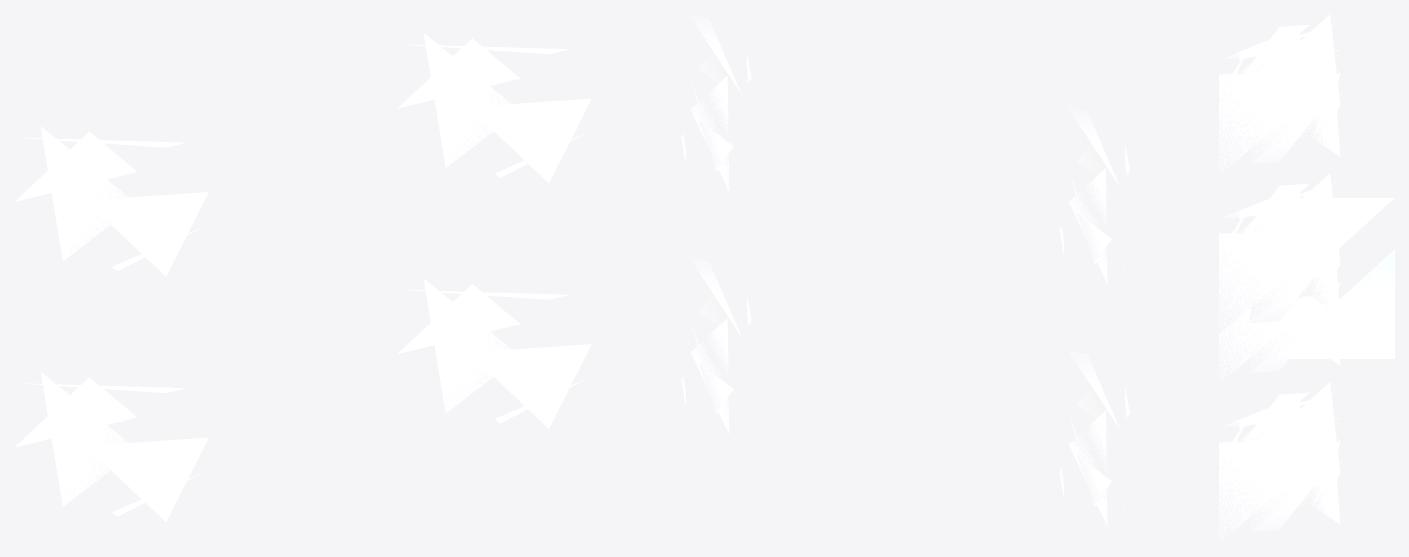
The model's file is SM_Interceptor.glb.
3 renders of one model, left to right at view 1: azimuth 30°, elevation 25°; view 2: azimuth 150°, elevation 25°; view 3: azimuth 270°, elevation 25°, orthographic. The views are drawn at different scales.
Visible parts, largest first — view 1: SM_Wheel_RL, SM_Wheel_FR, SM_Wheel_FL, SM_Wheel_RR; view 2: SM_Wheel_RR, SM_Wheel_RL, SM_Wheel_FL, SM_Wheel_FR; view 3: SM_Wheel_FR, SM_Wheel_FL, SM_Wheel_RR, SM_Interceptor_Body, SM_Wheel_RL.
Boxes of the visible parts, left/top/right/bottom form: SM_Wheel_RL: left=14, top=372, right=208, bottom=521; SM_Wheel_FR: left=397, top=33, right=591, bottom=182; SM_Wheel_FL: left=398, top=278, right=591, bottom=428; SM_Wheel_RR: left=15, top=126, right=208, bottom=276; SM_Wheel_RR: left=1059, top=107, right=1129, bottom=283; SM_Wheel_RL: left=1059, top=349, right=1129, bottom=526; SM_Wheel_FL: left=681, top=257, right=751, bottom=433; SM_Wheel_FR: left=681, top=14, right=751, bottom=191; SM_Wheel_FR: left=1219, top=173, right=1340, bottom=333; SM_Wheel_FL: left=1219, top=382, right=1340, bottom=542; SM_Wheel_RR: left=1219, top=14, right=1340, bottom=174; SM_Interceptor_Body: left=1274, top=198, right=1394, bottom=358; SM_Wheel_RL: left=1219, top=281, right=1340, bottom=383.
Bounding box in the file's own units: 4.1 × 2.9 × 1.45.
2 materials, 2 textured.
